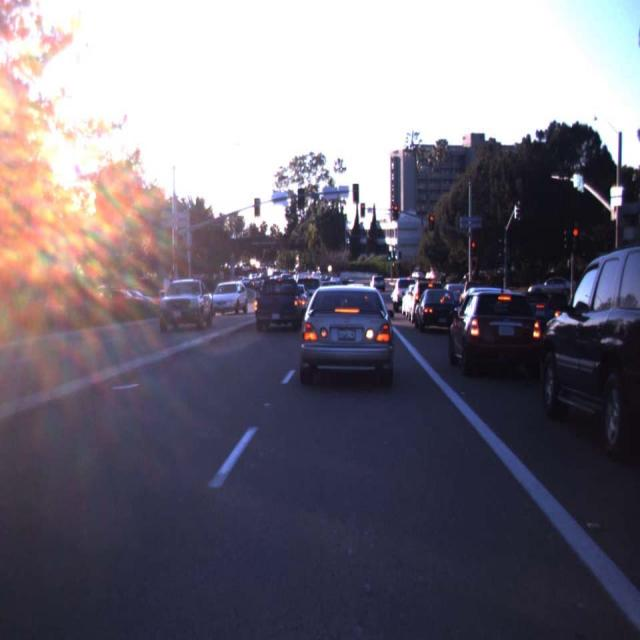kirmizi: (393, 206, 399, 222), (429, 216, 435, 232), (471, 242, 476, 258), (362, 204, 366, 218)
